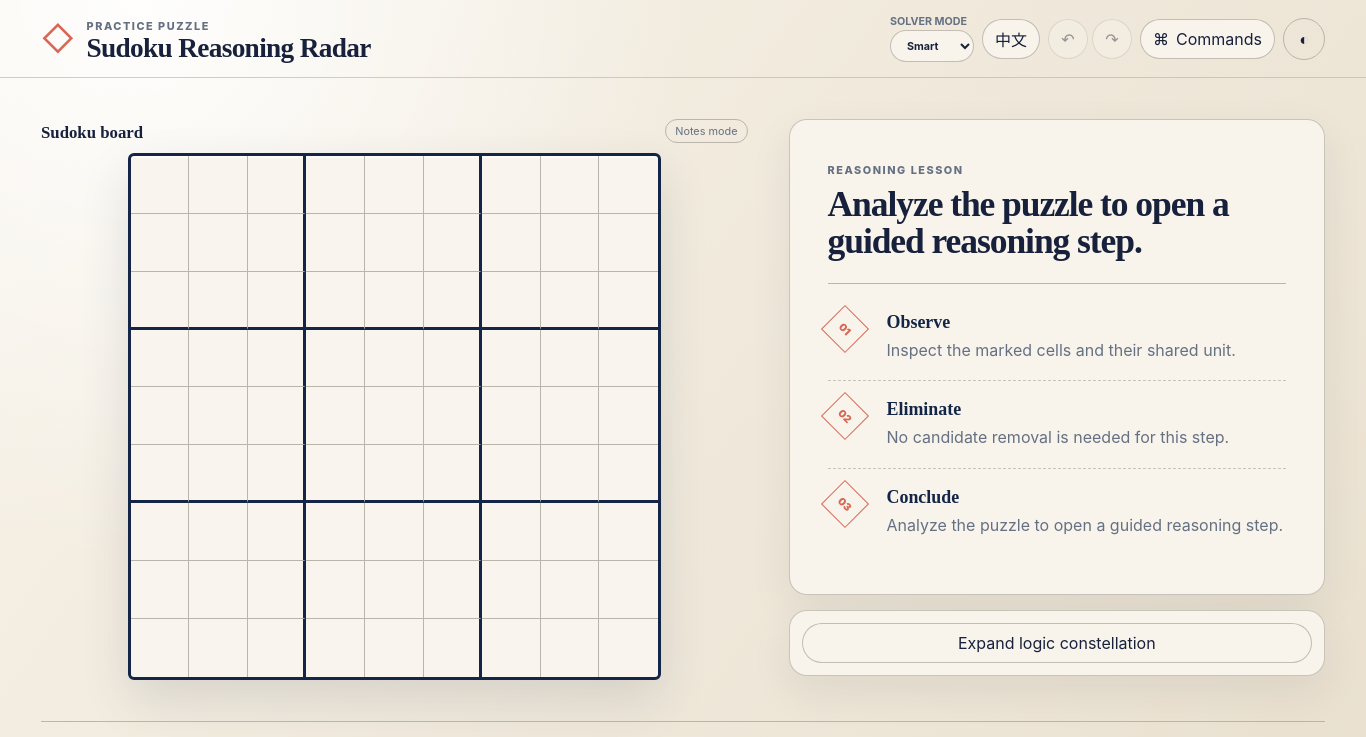
it: shared reasoning workspace › supports keyboard notes plus instant mode and language switching
Step 1. Click the button named "row 1, column 1, empty" → coordinates (160, 184), box [131,180,188,188]
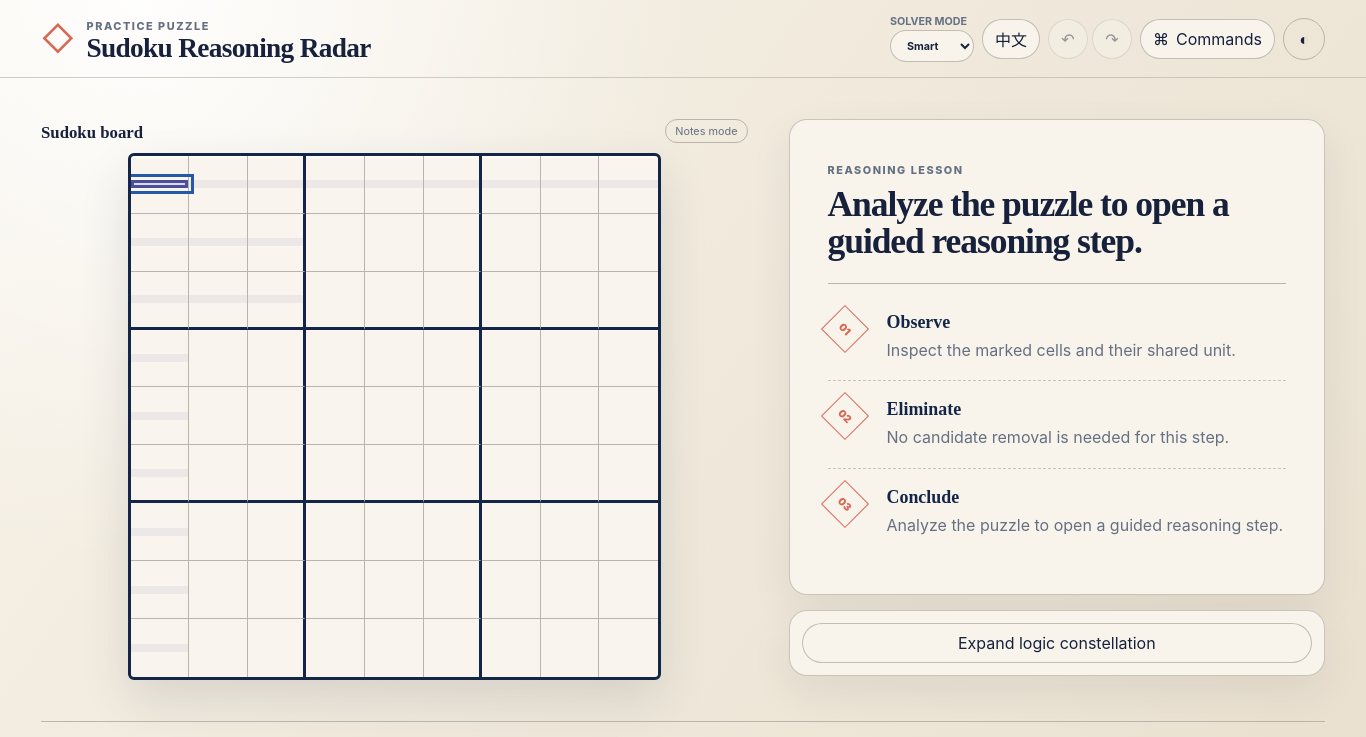
Step 2. Type keys "n8"
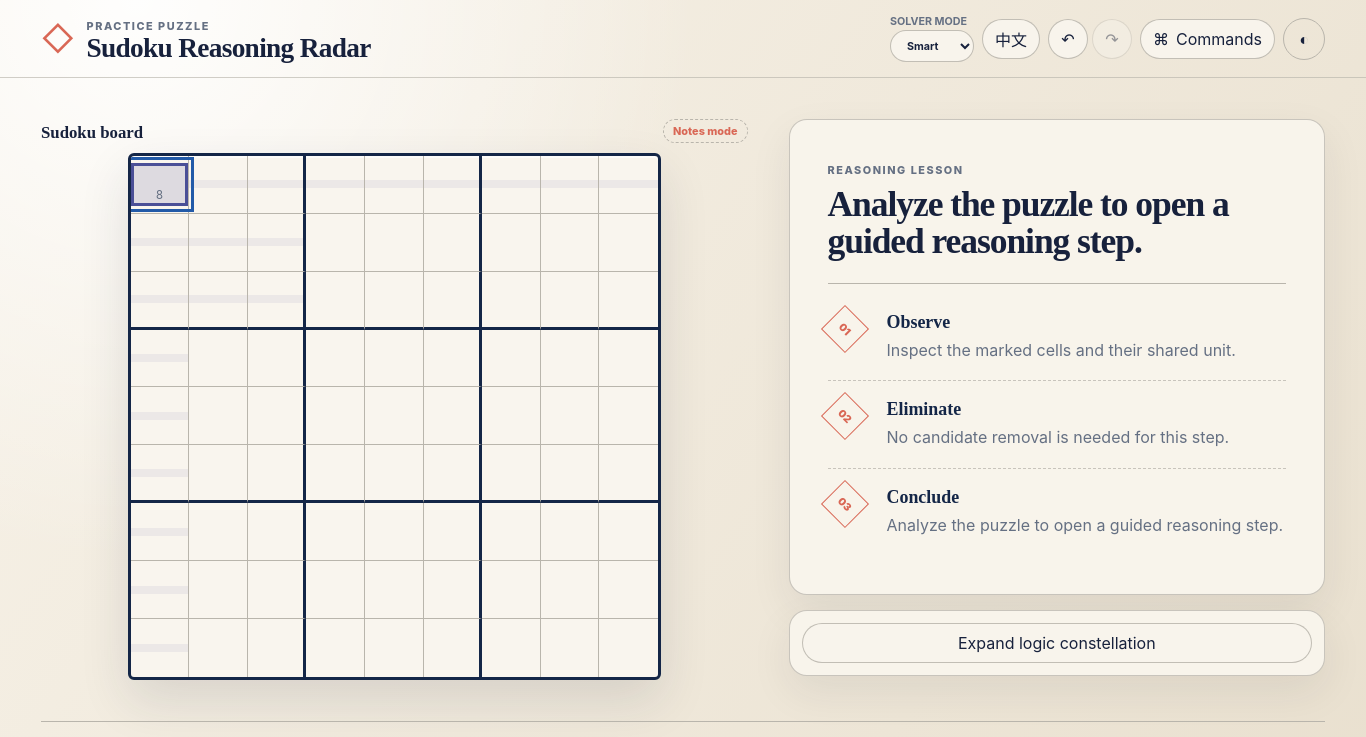
Step 3. Select "Human" in the dropdown labelled "Solver mode" → coordinates (932, 46), box [890,30,974,62]
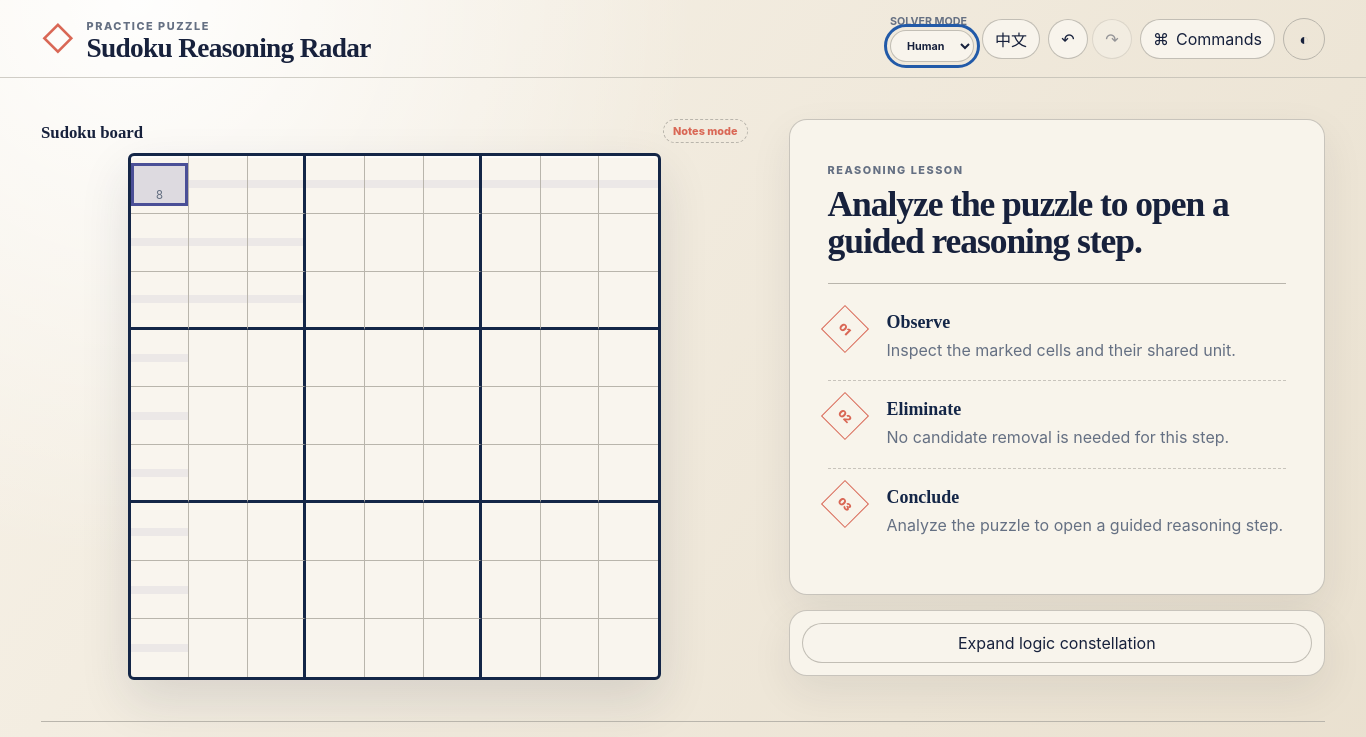
Step 4. Click the button "中文" → coordinates (1011, 38), box [982,18,1040,58]
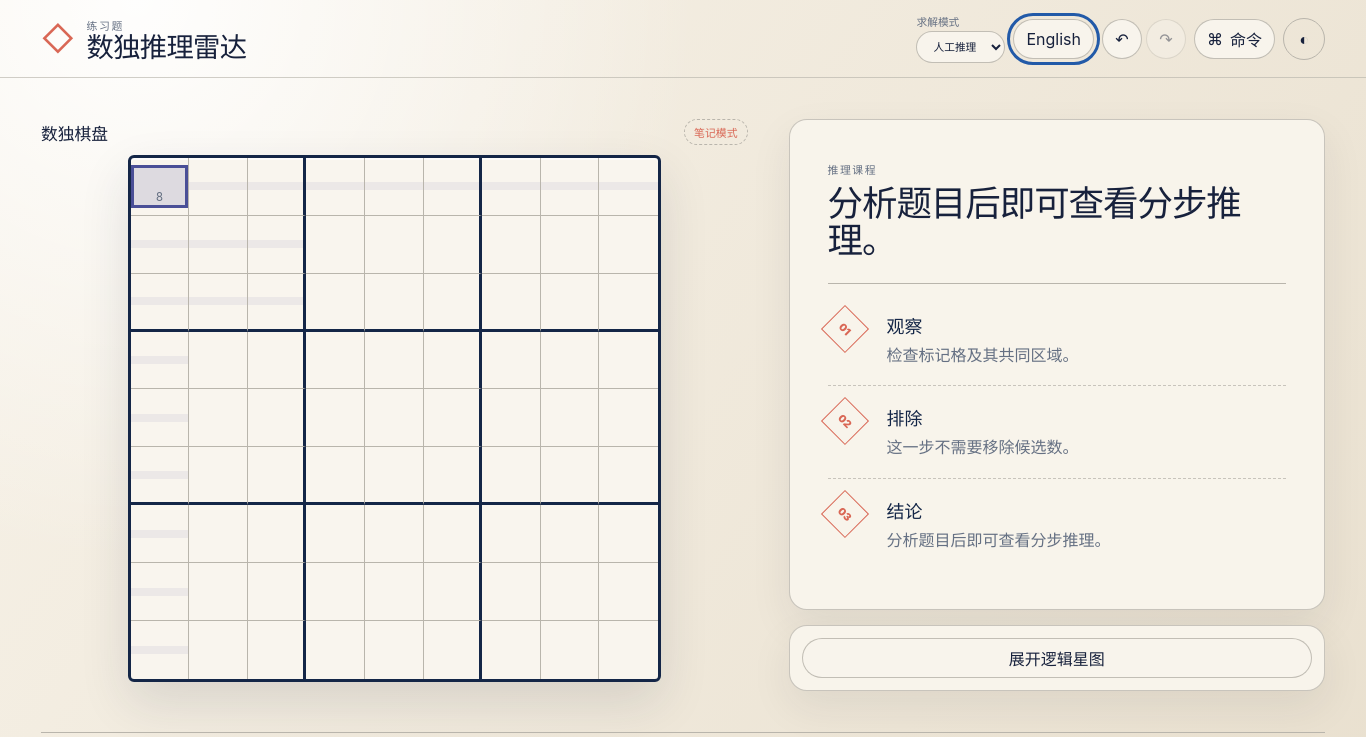
Expected: the heading "数独推理雷达" is shown, [87,34,246,63]
